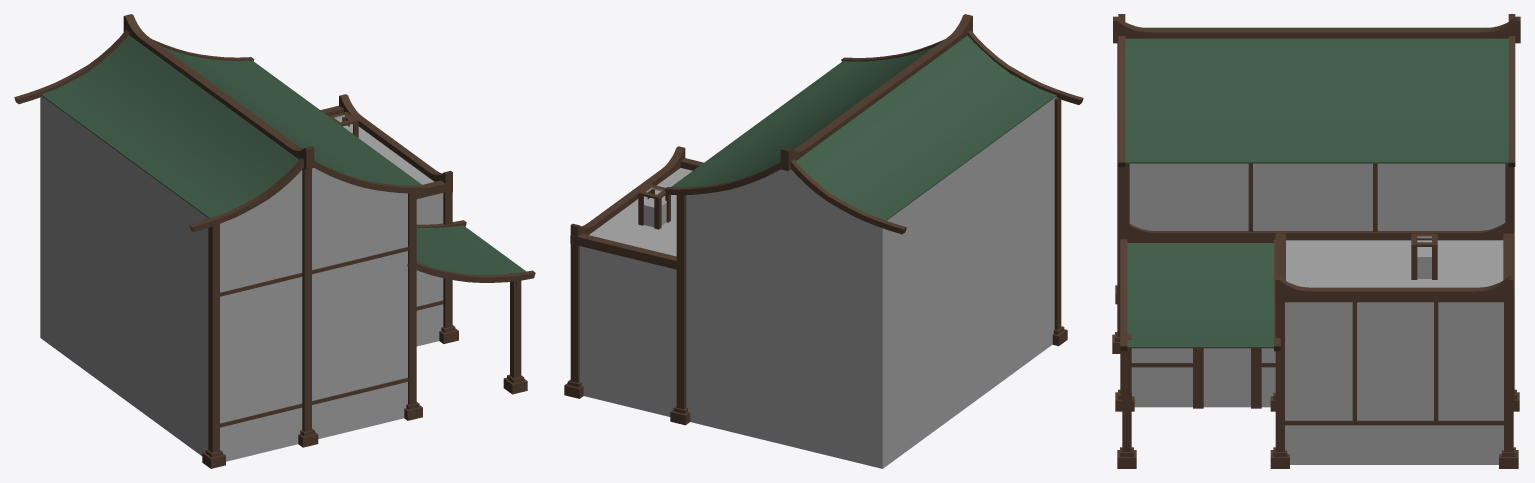
Rendered from shed.fbx.
The picture shows the model from 3 angles, left to right: view 1: azimuth 30°, elevation 25°; view 2: azimuth 150°, elevation 25°; view 3: azimuth 270°, elevation 25°; orthographic projection. The views are drawn at different scales.
Parts seen in each view (by area): view 1: pCube44, pCube47, pCube35, pCube32, pCube36, pCube48, pCube43, pCube25, pCube31, pCube12, pCube29, pCube33 (+1 smaller); view 2: pCube44, pCube32, pCube16, pCube48, pCube47, pCube40, pCube43, pCube42, pCube31, pCube45; view 3: pCube44, pCube32, pCube43, pCube3, pCube49, pCube31, pCube40, pCube12, pCube25, pCube17, pCube45, pCube16 (+9 smaller).
Part boxes in pixels (<box>): pCube44: <box>40,35,526,461</box>; pCube47: <box>202,224,225,468</box>; pCube35: <box>298,168,318,447</box>; pCube32: <box>123,14,314,169</box>; pCube36: <box>404,193,422,420</box>; pCube48: <box>14,30,303,232</box>; pCube43: <box>339,94,452,193</box>; pCube25: <box>503,272,527,394</box>; pCube31: <box>152,39,429,193</box>; pCube12: <box>439,191,458,343</box>; pCube29: <box>407,263,535,282</box>; pCube33: <box>220,377,408,427</box>; pCube44: <box>579,35,1056,468</box>; pCube32: <box>780,14,972,171</box>; pCube16: <box>670,195,690,425</box>; pCube48: <box>791,30,1083,234</box>; pCube47: <box>1052,97,1067,346</box>; pCube40: <box>564,244,583,398</box>; pCube43: <box>570,146,685,236</box>; pCube42: <box>570,233,676,269</box>; pCube31: <box>664,39,944,195</box>; pCube45: <box>638,184,670,229</box>; pCube44: <box>1125,27,1508,464</box>; pCube32: <box>1113,16,1520,43</box>; pCube43: <box>1275,276,1513,302</box>; pCube3: <box>1129,223,1505,242</box>; pCube49: <box>1203,348,1250,407</box>; pCube31: <box>1118,36,1515,166</box>; pCube40: <box>1499,300,1518,468</box>; pCube12: <box>1270,302,1289,468</box>; pCube25: <box>1117,333,1136,468</box>; pCube17: <box>1285,420,1503,425</box>; pCube45: <box>1411,233,1437,279</box>; pCube16: <box>1505,163,1519,411</box>.
Bounding box in the file's own units: 6.53 × 5.38 × 6.01.
